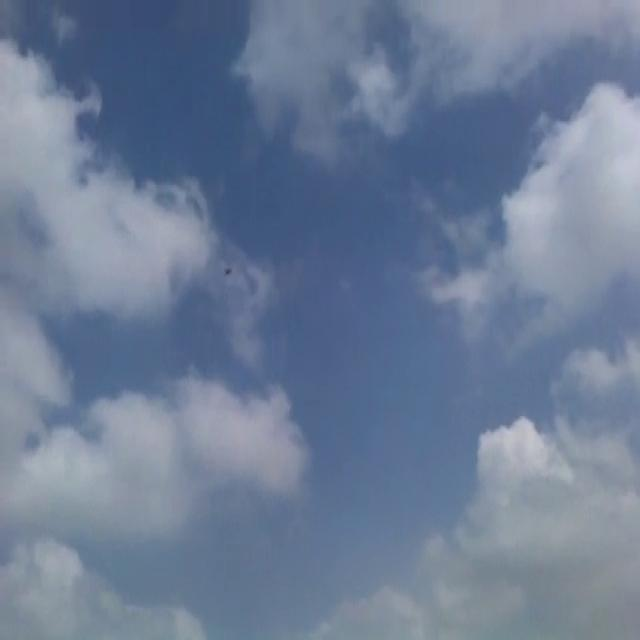drone: (222, 260, 233, 278)
